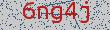4: (63, 1, 79, 26)
6: (19, 1, 37, 24)
g: (50, 3, 64, 29)
j: (78, 1, 92, 26)
n: (37, 1, 50, 27)
